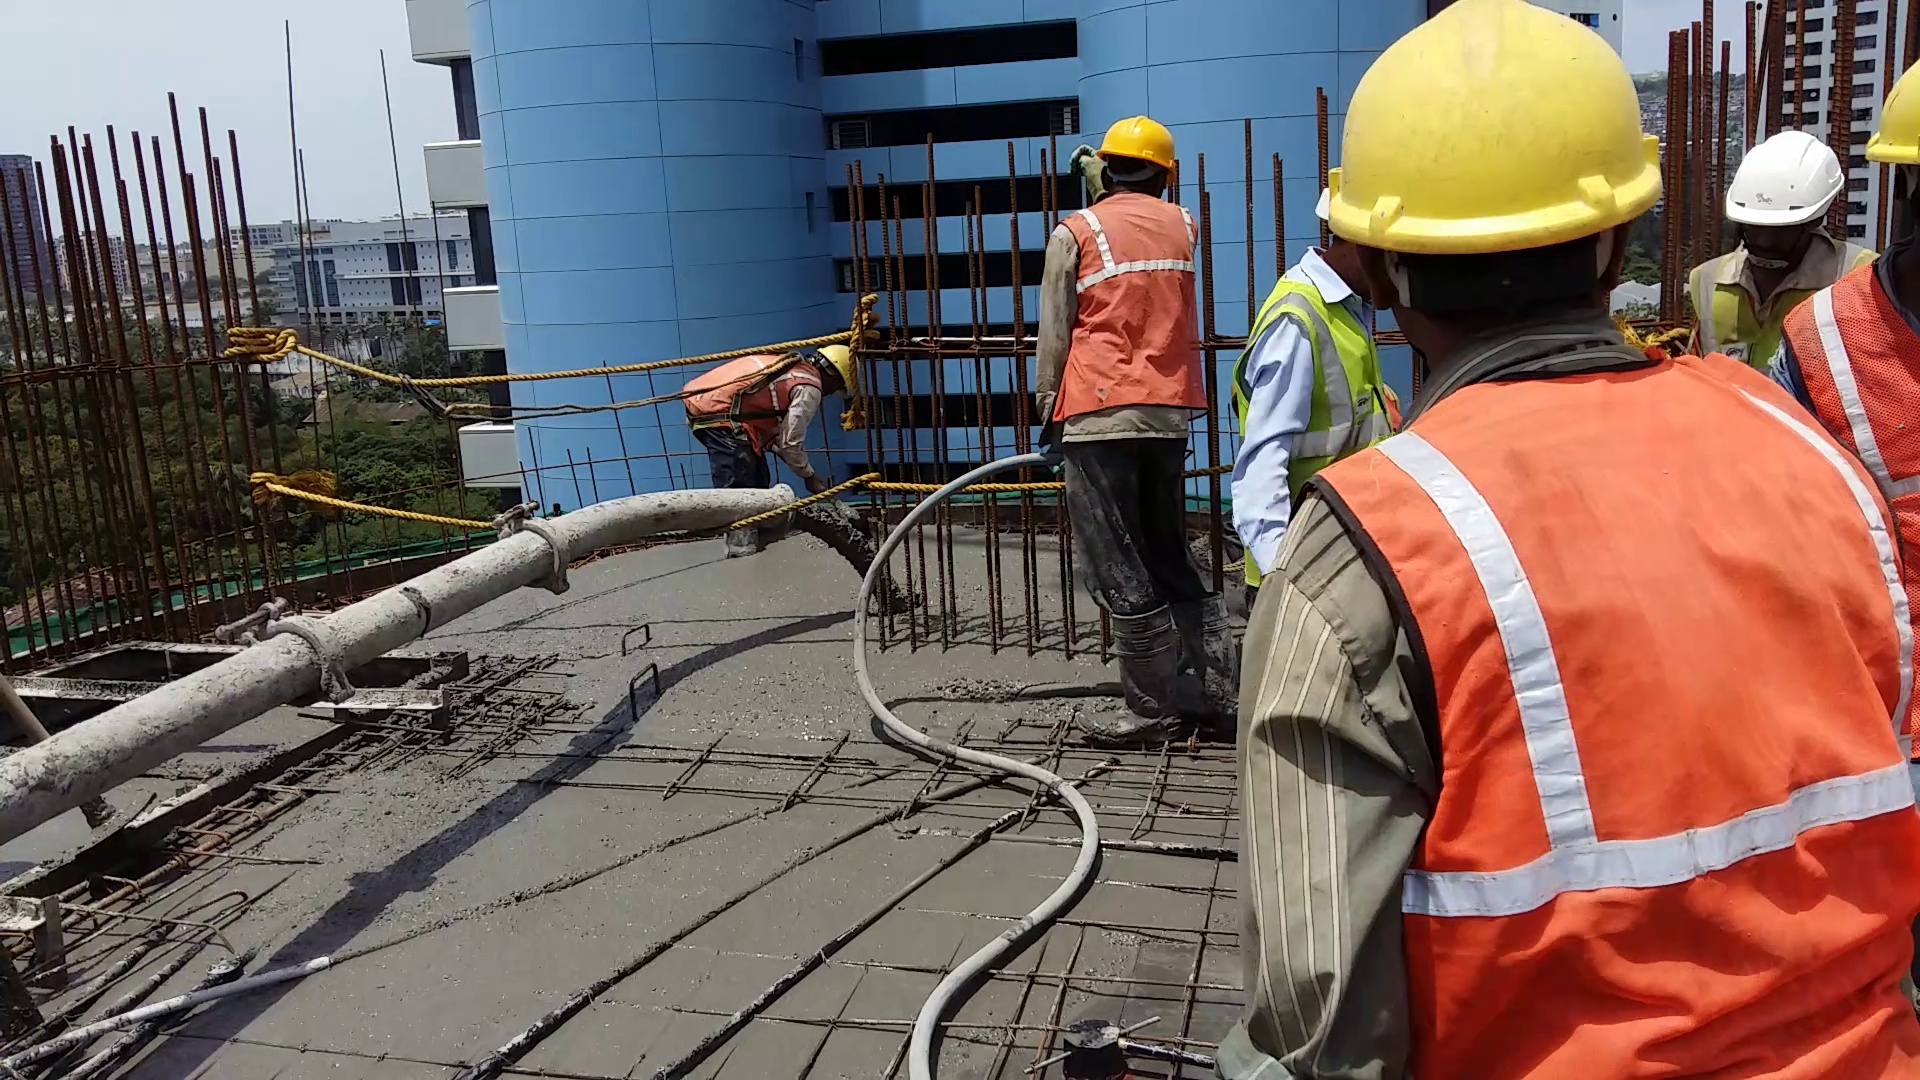SAFE: (1319, 1, 1679, 1056), (1046, 113, 1205, 419), (1702, 123, 1846, 363), (674, 338, 851, 440)
